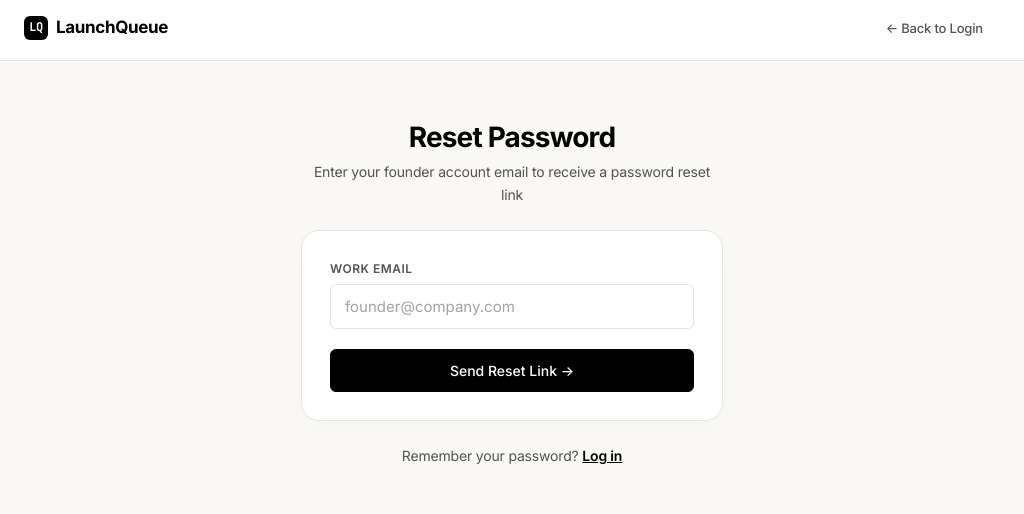
Scenario: ForgotPassword Page › submits email and displays generic success message
In the field with placeholder "founder@company.com": (512, 307) [330,284,694,329], type "founder@example.com"
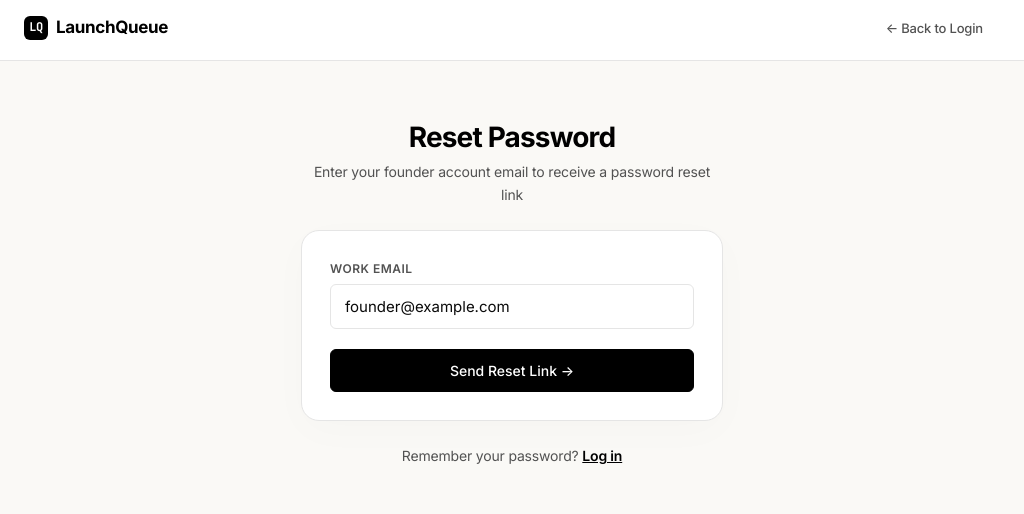
Click the button "Send Reset Link →": (512, 371) [330,349,694,392]
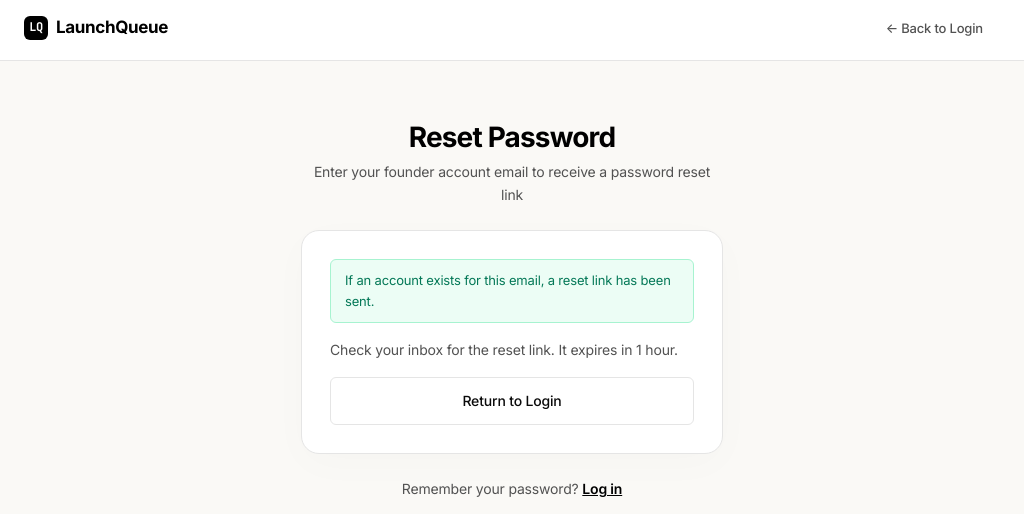
Expected: the text "If an account exists for this email, a reset link has been sent" is shown, [345,272,671,309]
